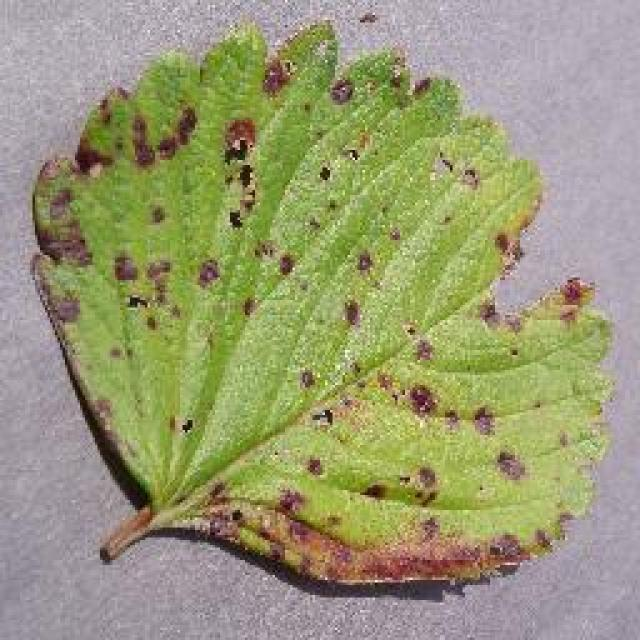Strawberry leaf scorch: (0, 52, 530, 610)
